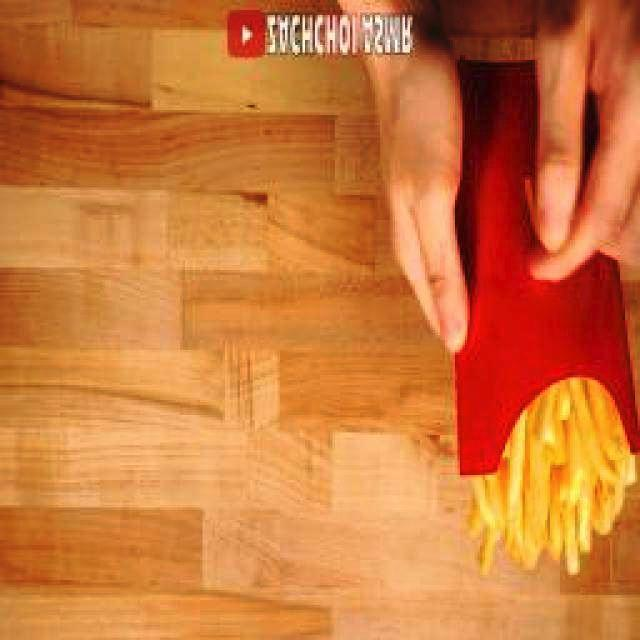french fries: (469, 377, 640, 575)
